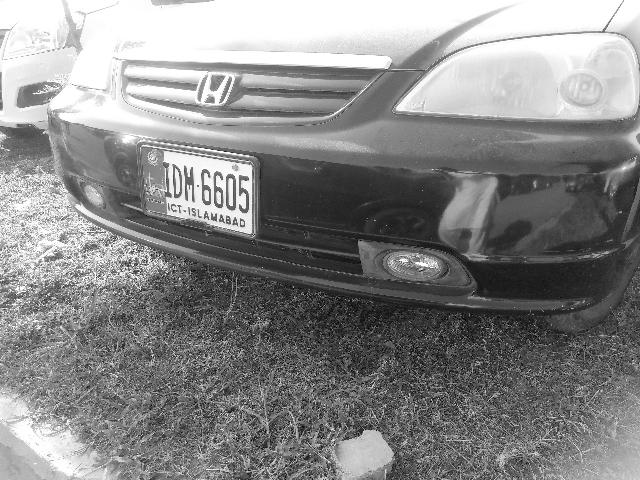Number: (160, 160, 251, 217)
